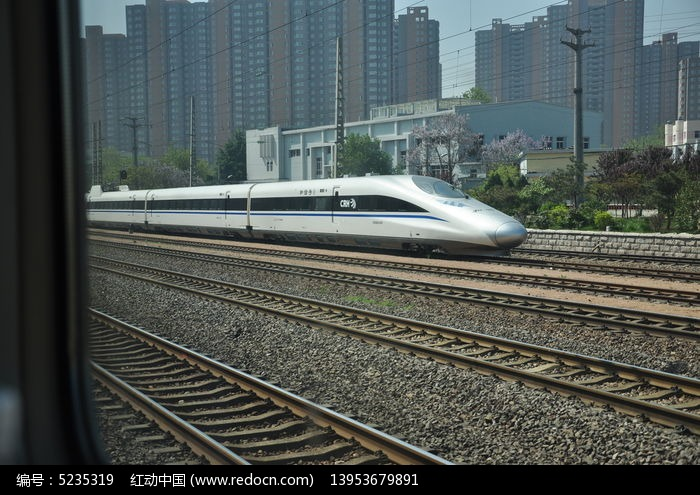hsrw: (88, 170, 530, 262)
